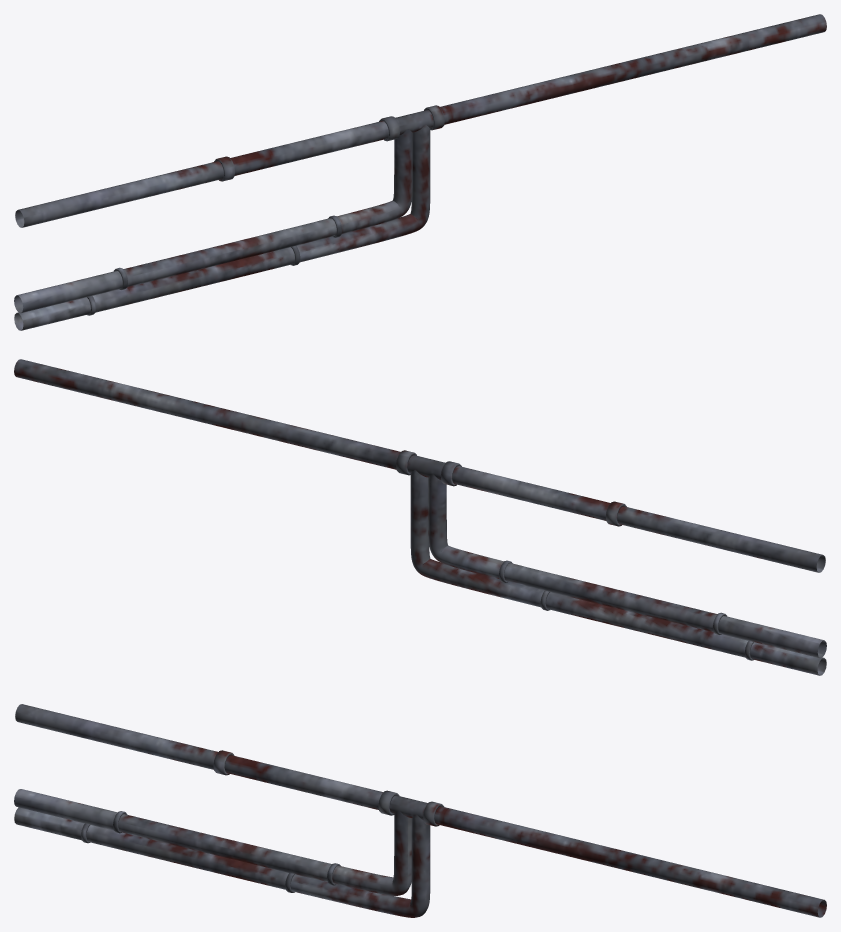
Rendered from small pipes 1.fbx.
3 views of the same model, one above another, from view 1: azimuth 30°, elevation 25°; view 2: azimuth 150°, elevation 25°; view 3: azimuth 330°, elevation 25° (orthographic).
Parts seen in each view (by area): view 1: NurbsPath; view 2: NurbsPath; view 3: NurbsPath.
Boxes of the visible parts, <box> form: NurbsPath: <box>14,14,826,330</box>; NurbsPath: <box>14,359,826,675</box>; NurbsPath: <box>14,704,826,917</box>.
Size of the model in its own units: 1313 by 192 by 33.16.
